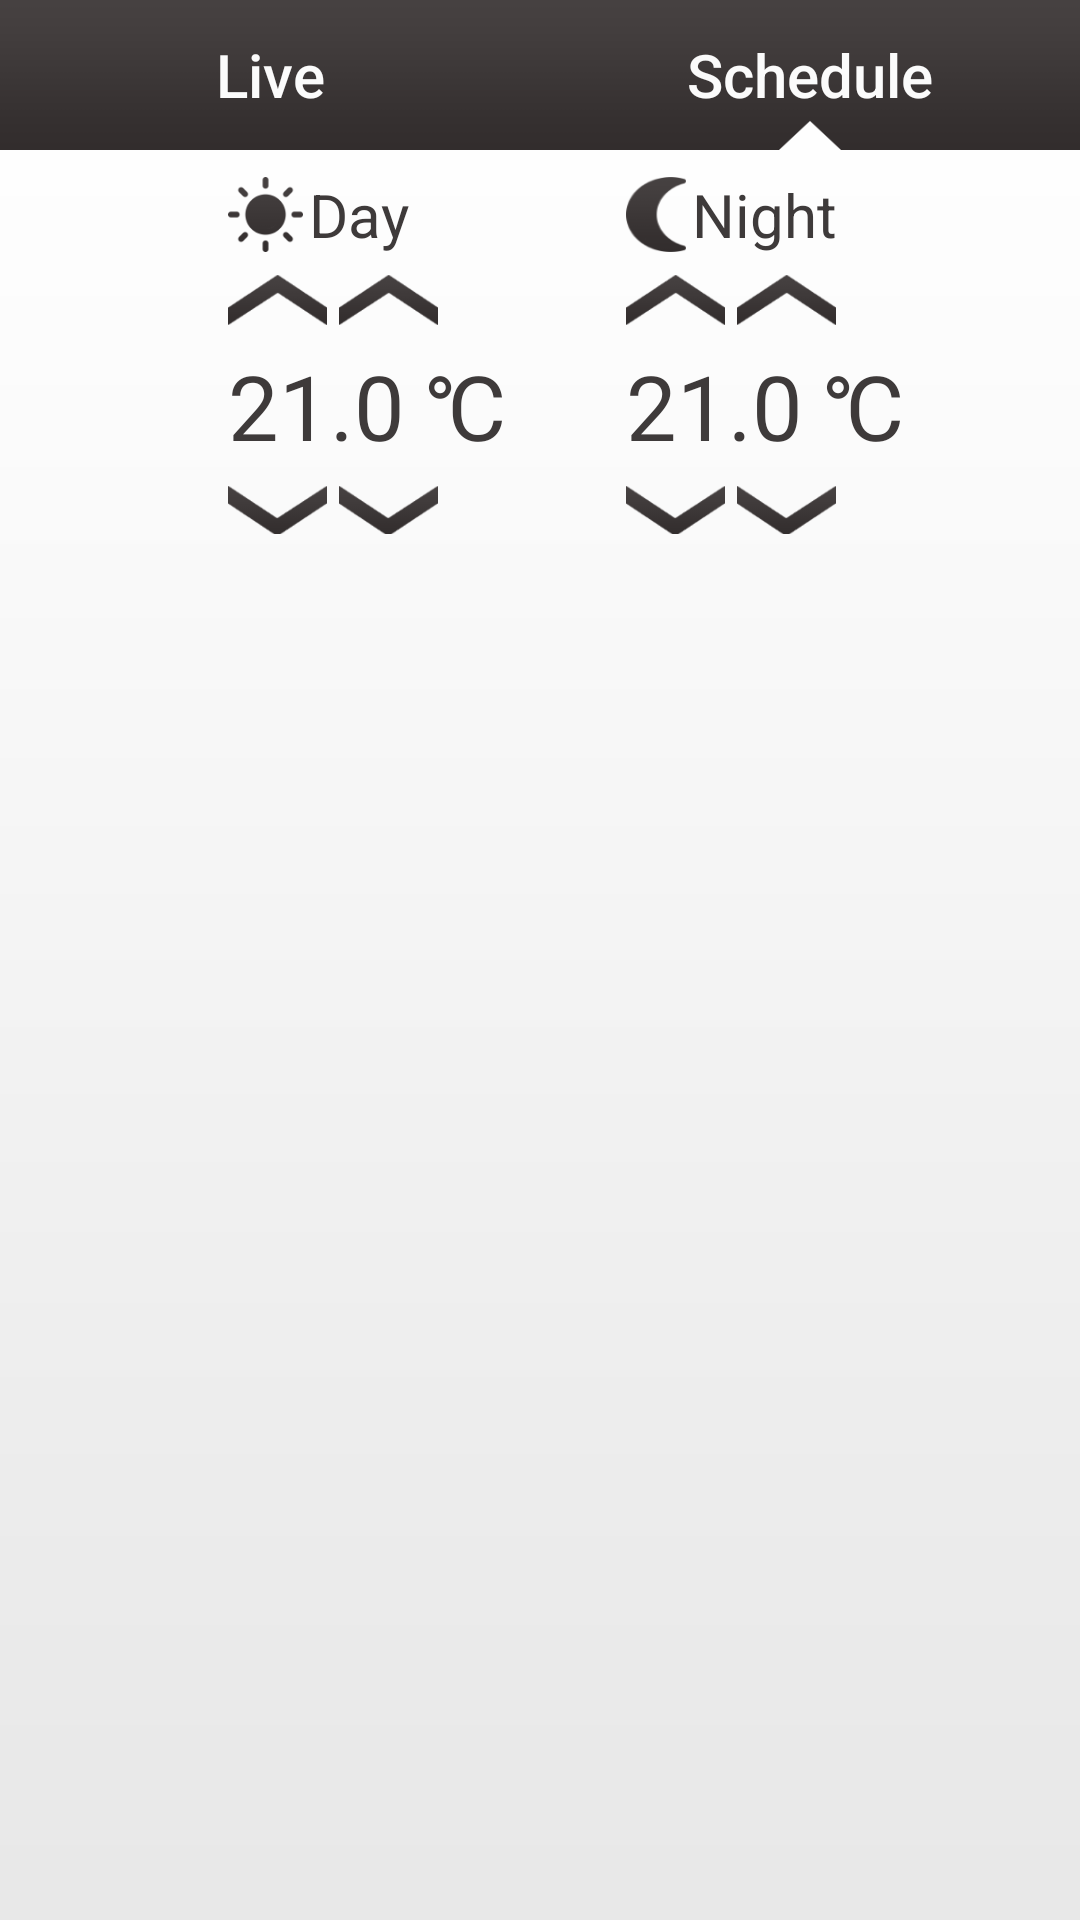

Icon bounding boxes for this 1080px x 1920px phone screenshot, format (x1, y1, x2, y2):
arrow up: (228, 275, 327, 325), (339, 275, 438, 325), (626, 275, 725, 325), (737, 275, 836, 325)
